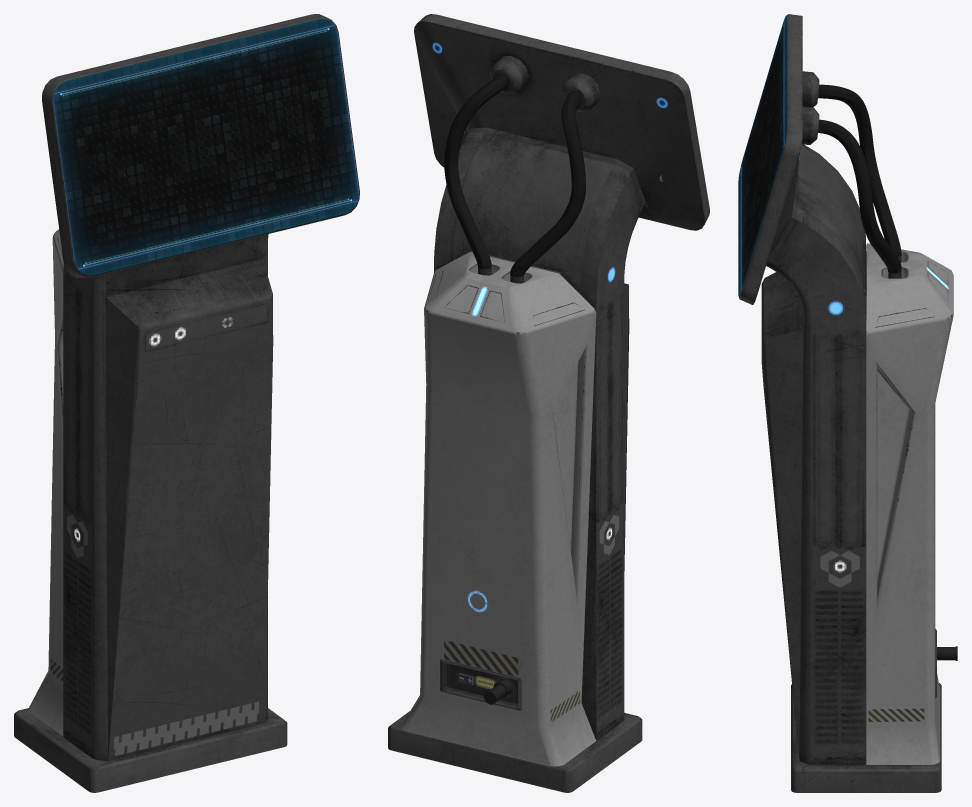
File: information_panel.glb
3 renders of one model, left to right at view 1: azimuth 30°, elevation 25°; view 2: azimuth 150°, elevation 25°; view 3: azimuth 270°, elevation 25°, orthographic. The views are drawn at different scales.
Parts seen in each view (by area): view 1: Body, Screen; view 2: Body; view 3: Body, Screen.
Boxes of the visible parts, bbox=[...] form: Body: bbox=[14, 14, 359, 792]; Screen: bbox=[53, 19, 358, 275]; Body: bbox=[388, 14, 709, 792]; Body: bbox=[739, 14, 957, 792]; Screen: bbox=[738, 15, 786, 296].
Bounding box in the file's own units: 0.5 × 1.19 × 0.3495.
Materials: 2 (2 with a texture image).
